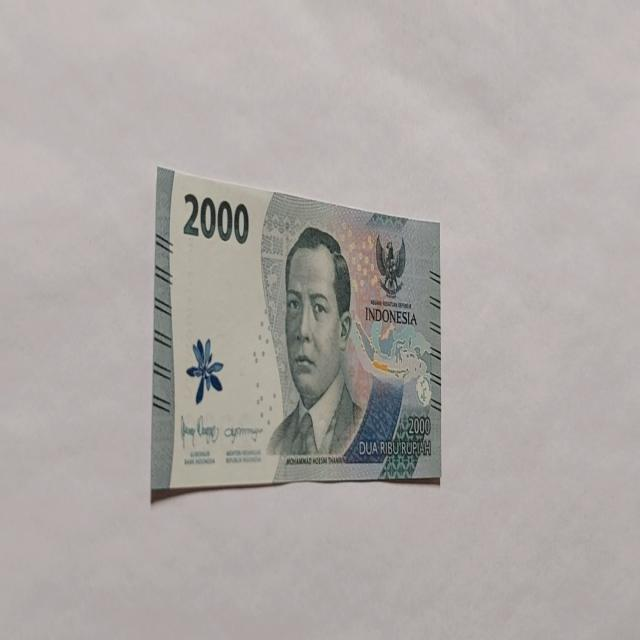dua ribu rupiah: (150, 164, 442, 500), (266, 225, 366, 466)
